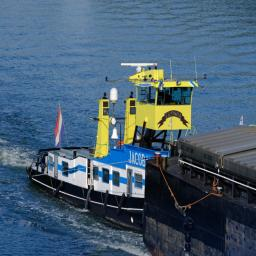tugboat: (26, 62, 206, 242)
